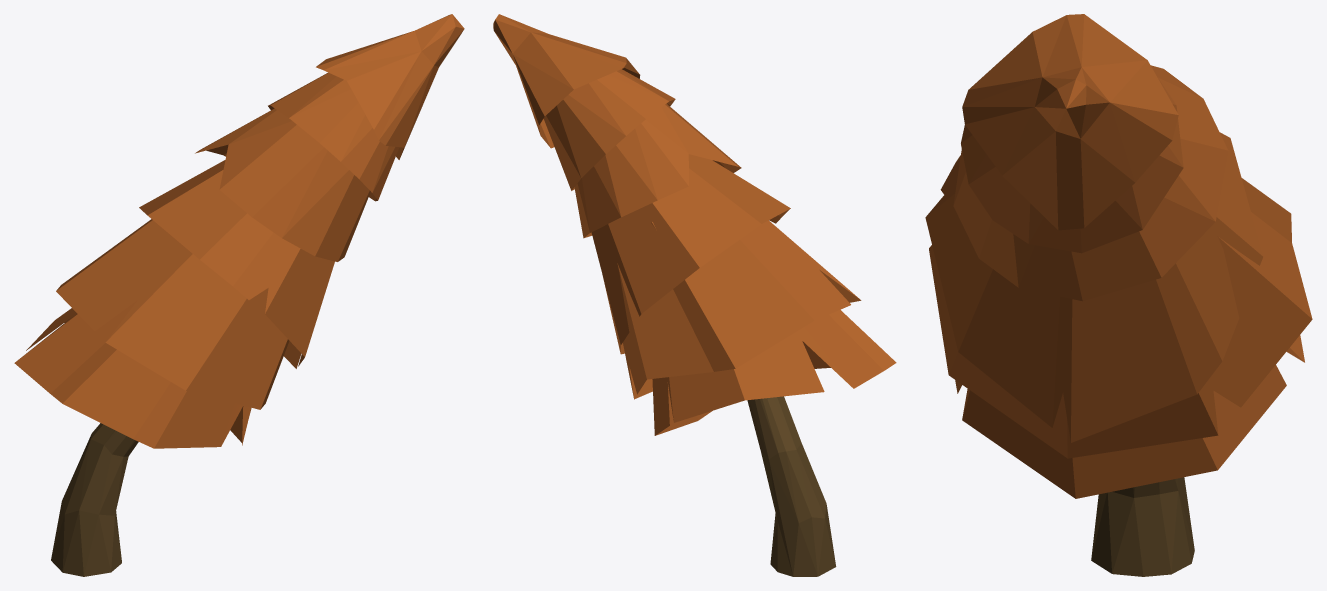
Rendered from pointyTree1.fbx.
3 views of the same model, side by side, from view 1: azimuth 30°, elevation 25°; view 2: azimuth 150°, elevation 25°; view 3: azimuth 270°, elevation 25° (orthographic). The views are drawn at different scales.
Parts seen in each view (by area): view 1: Tree5; view 2: Tree5; view 3: Tree5.
Boxes of the visible parts, x1=… form: Tree5: x1=14, y1=14, x2=464, y2=576; Tree5: x1=493, y1=14, x2=896, y2=576; Tree5: x1=925, y1=14, x2=1312, y2=576.
Bounding box in the file's own units: 320 × 354 × 170.
